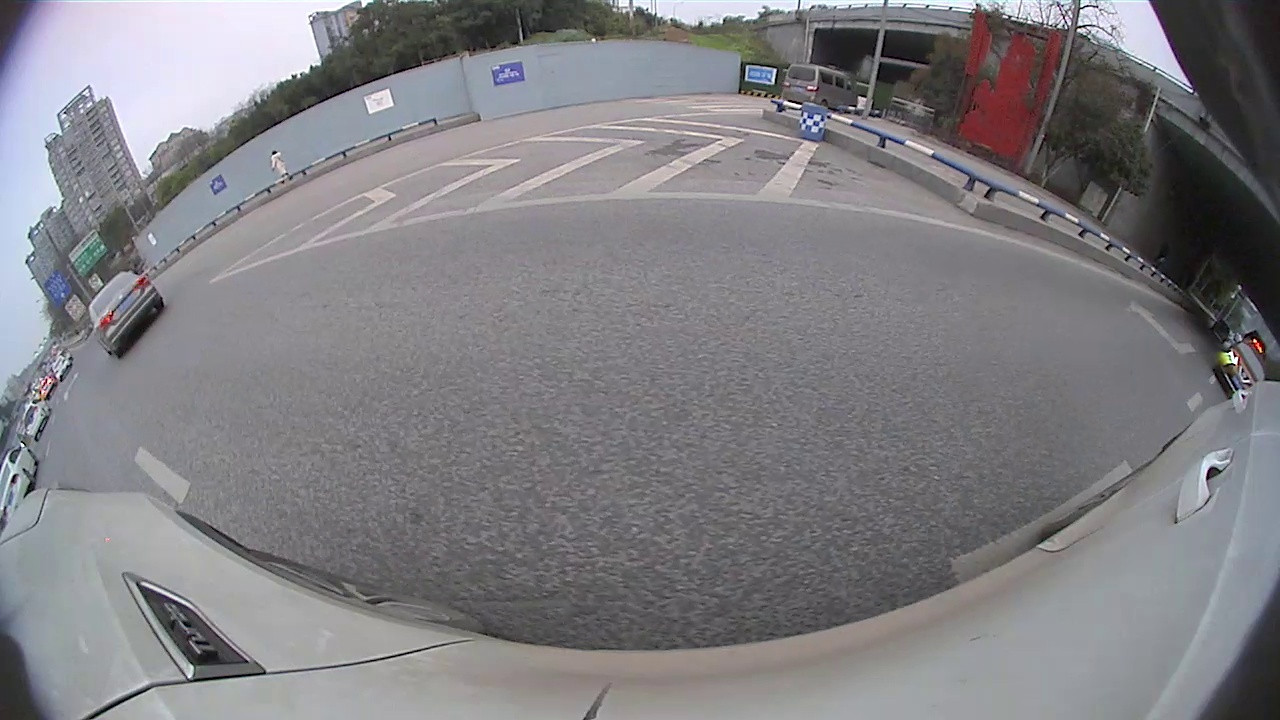car: (86, 269, 166, 360), (780, 61, 858, 111), (1212, 341, 1267, 400), (1, 444, 40, 522), (21, 398, 52, 439), (51, 353, 74, 382)
person: (271, 149, 282, 178)
rear: (152, 299, 169, 317), (117, 341, 132, 360)
